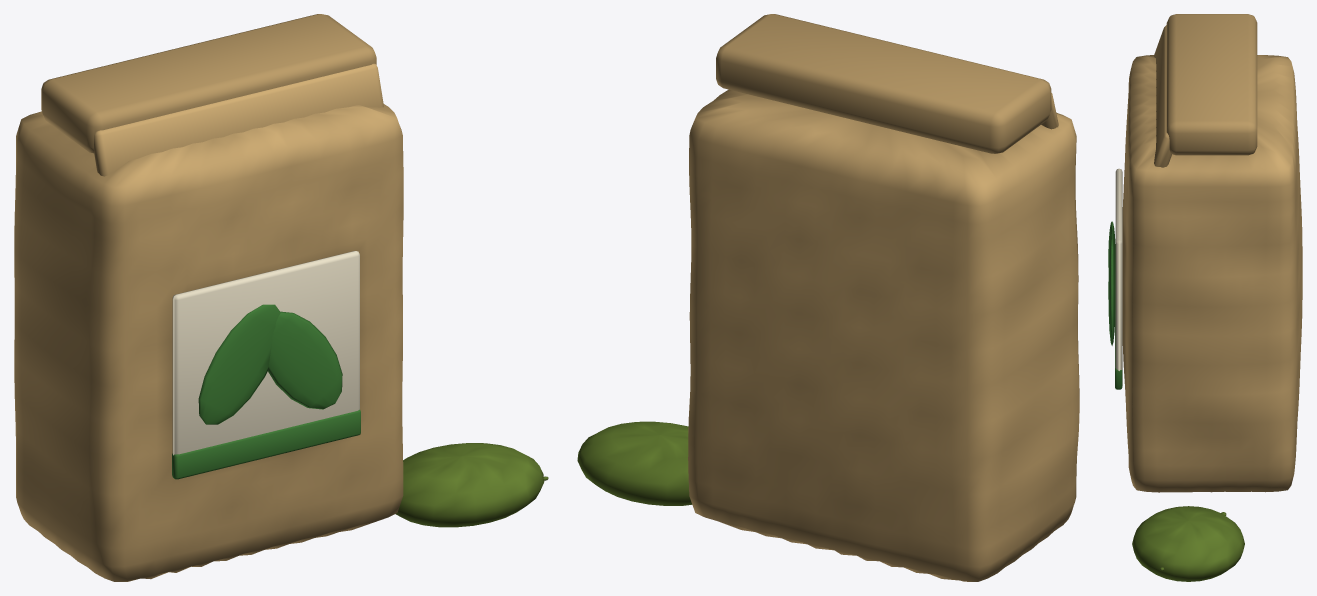
The model's file is prop_yerba.glb.
3 views of the same model, side by side, from view 1: azimuth 30°, elevation 25°; view 2: azimuth 150°, elevation 25°; view 3: azimuth 270°, elevation 25° (orthographic). The views are drawn at different scales.
Visible parts, largest first — view 1: prop_yerba; view 2: prop_yerba; view 3: prop_yerba.
Part boxes in pixels (x1,y1,x2,y2): prop_yerba: (14, 14, 548, 581); prop_yerba: (577, 14, 1079, 581); prop_yerba: (1108, 14, 1302, 581).
Bounding box in the file's own units: 0.1877 × 0.19 × 0.0825.
